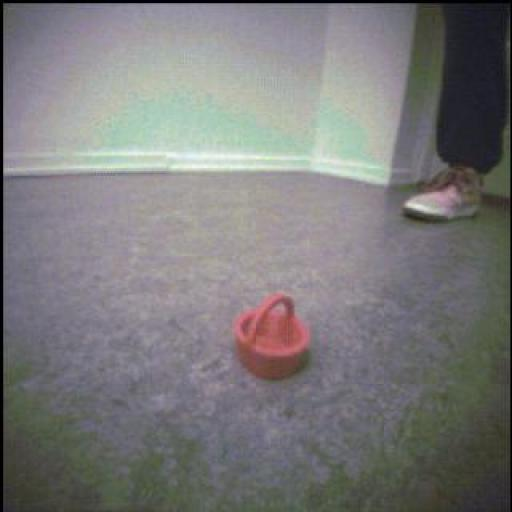Bucket: (235, 294, 312, 380)
